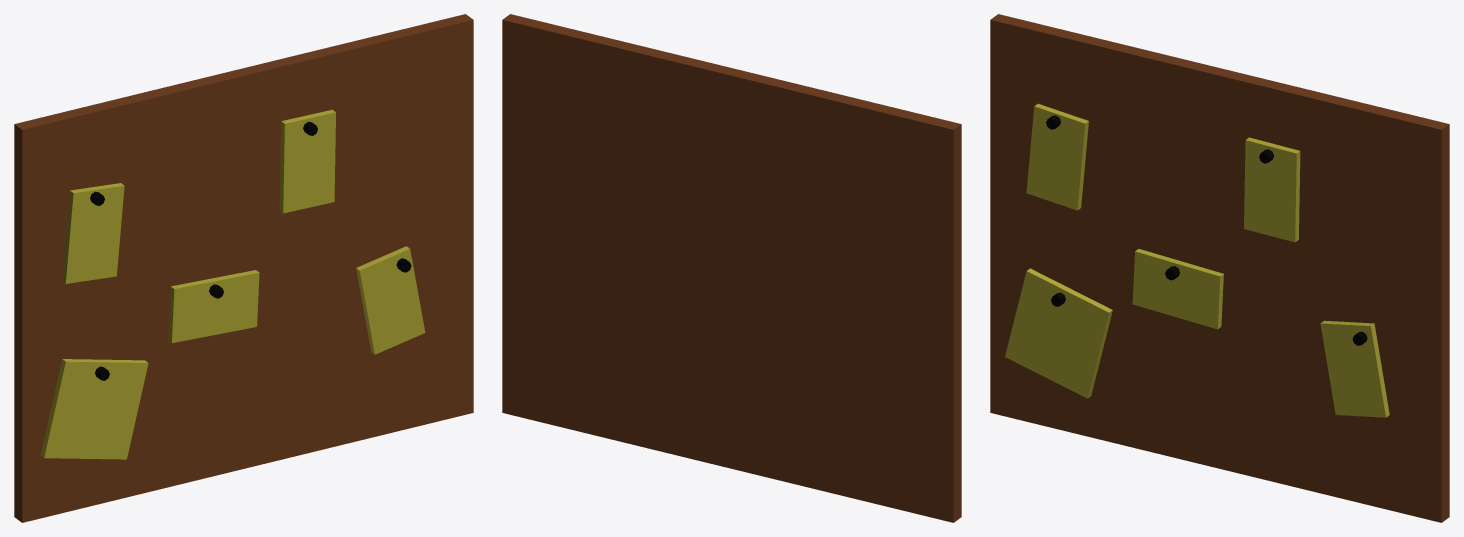
The model's file is requestboard.fbx.
The picture shows the model from 3 angles, left to right: view 1: azimuth 30°, elevation 25°; view 2: azimuth 150°, elevation 25°; view 3: azimuth 330°, elevation 25°; orthographic projection.
Parts seen in each view (by area): view 1: Cube, Cube.004, Cube.001, Cube.005, Cube.003, Cube.002; view 2: Cube; view 3: Cube, Cube.004, Cube.002, Cube.005, Cube.003, Cube.001.
Part boxes in pixels (x1=…): Cube: x1=14, y1=14, x2=473, y2=522; Cube.004: x1=40, y1=359, x2=148, y2=459; Cube.001: x1=62, y1=183, x2=124, y2=283; Cube.005: x1=279, y1=109, x2=335, y2=213; Cube.003: x1=168, y1=270, x2=259, y2=343; Cube.002: x1=356, y1=246, x2=425, y2=354; Cube: x1=502, y1=14, x2=961, y2=522; Cube: x1=990, y1=14, x2=1449, y2=522; Cube.004: x1=1005, y1=268, x2=1112, y2=398; Cube.002: x1=1320, y1=320, x2=1389, y2=417; Cube.005: x1=1244, y1=137, x2=1300, y2=242; Cube.003: x1=1132, y1=249, x2=1223, y2=329; Cube.001: x1=1026, y1=103, x2=1088, y2=210.
Bounding box in the file's own units: 6.03 × 5.02 × 0.3764.
